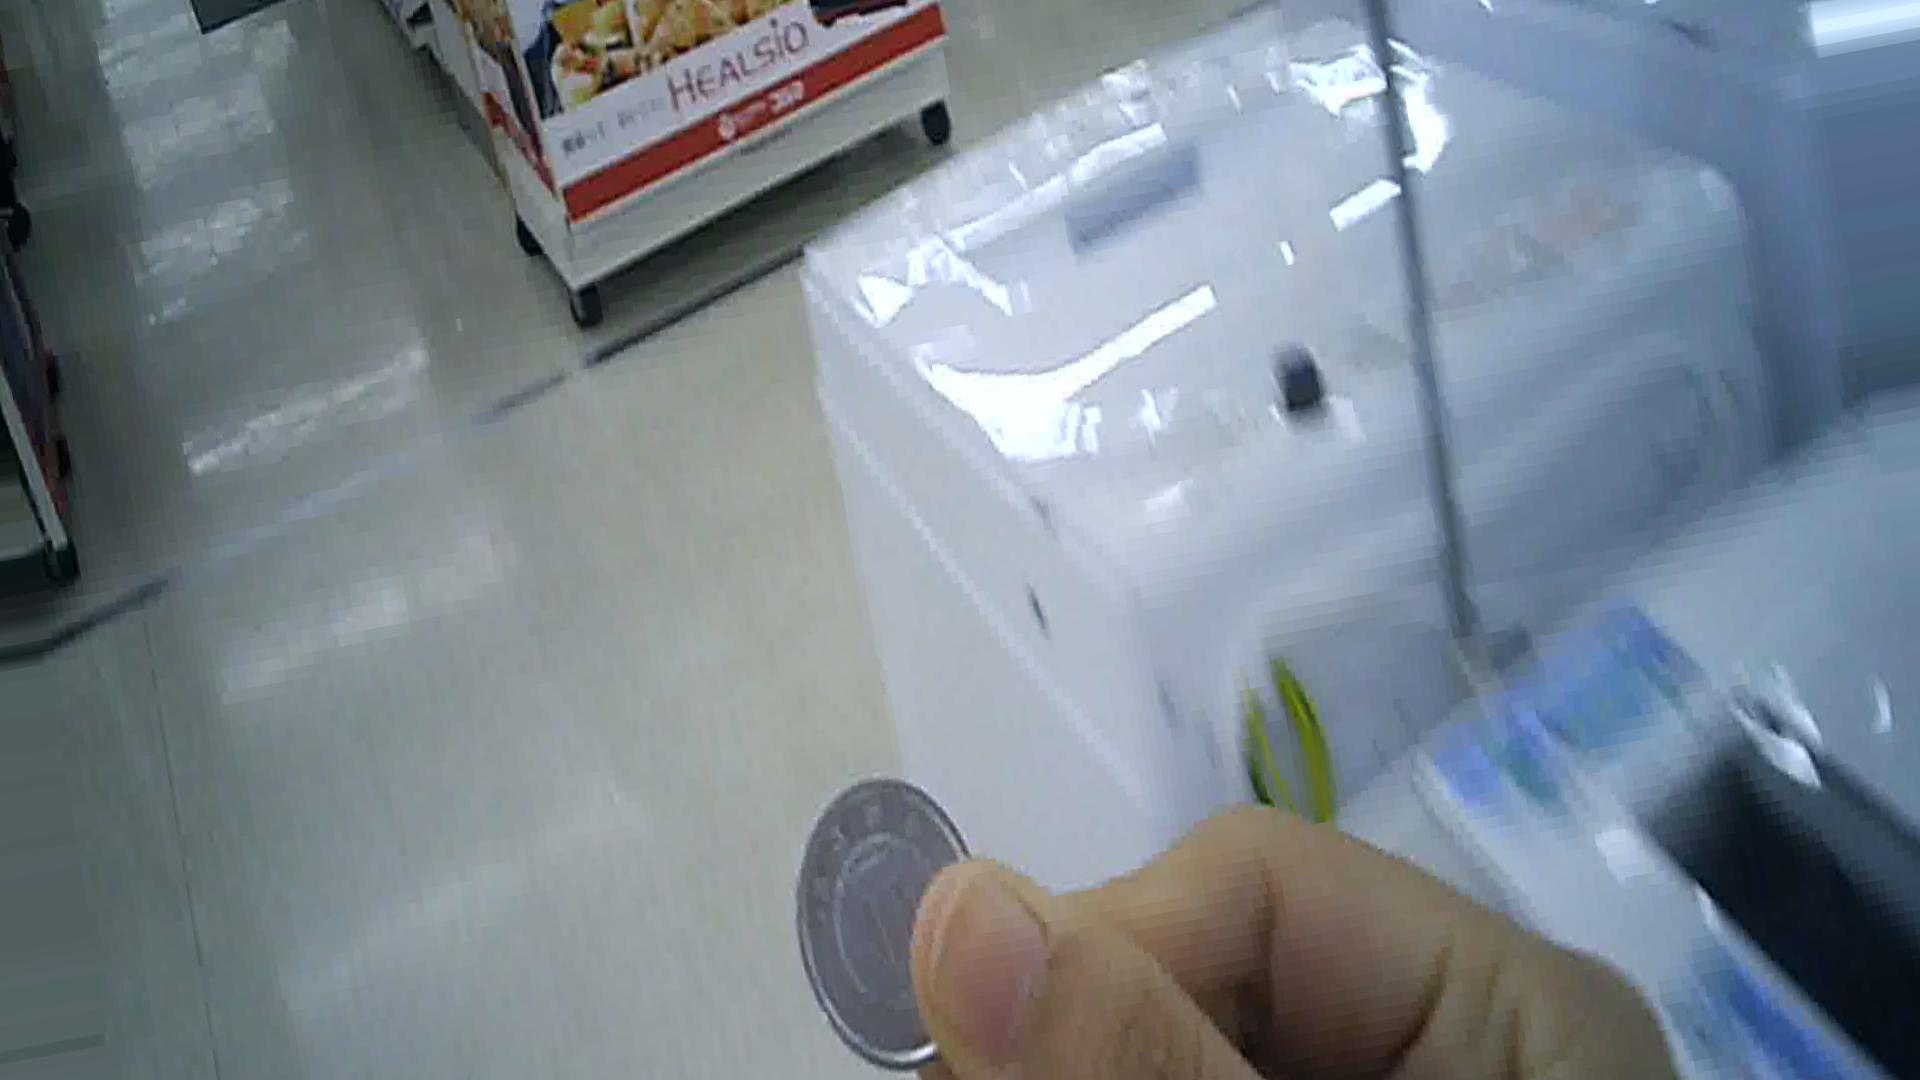1 Yen: (756, 775, 1007, 1065)
